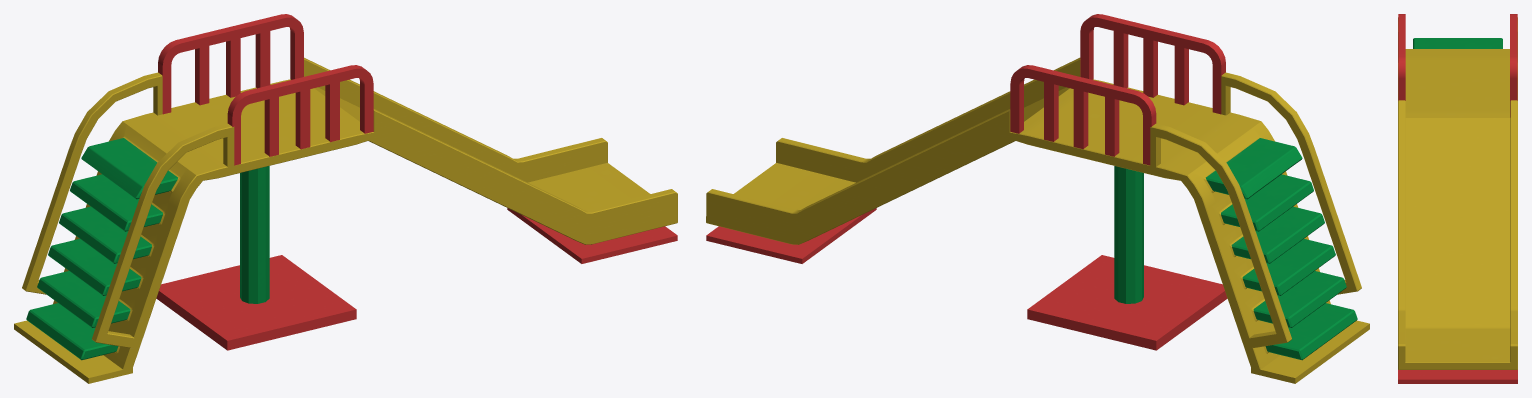
The model's file is Slides.glb.
The picture shows the model from 3 angles, left to right: view 1: azimuth 30°, elevation 25°; view 2: azimuth 150°, elevation 25°; view 3: azimuth 270°, elevation 25°; orthographic projection. The views are drawn at different scales.
Visible parts, largest first — view 1: slidesHIGH; view 2: slidesHIGH; view 3: slidesHIGH.
Part boxes in pixels (bbox=[...]): slidesHIGH: bbox=[14, 14, 677, 383]; slidesHIGH: bbox=[706, 14, 1369, 383]; slidesHIGH: bbox=[1398, 14, 1517, 383].
Bounding box in the file's own units: 20.89 × 8.48 × 4.57.
Materials: 1 (1 with a texture image).
